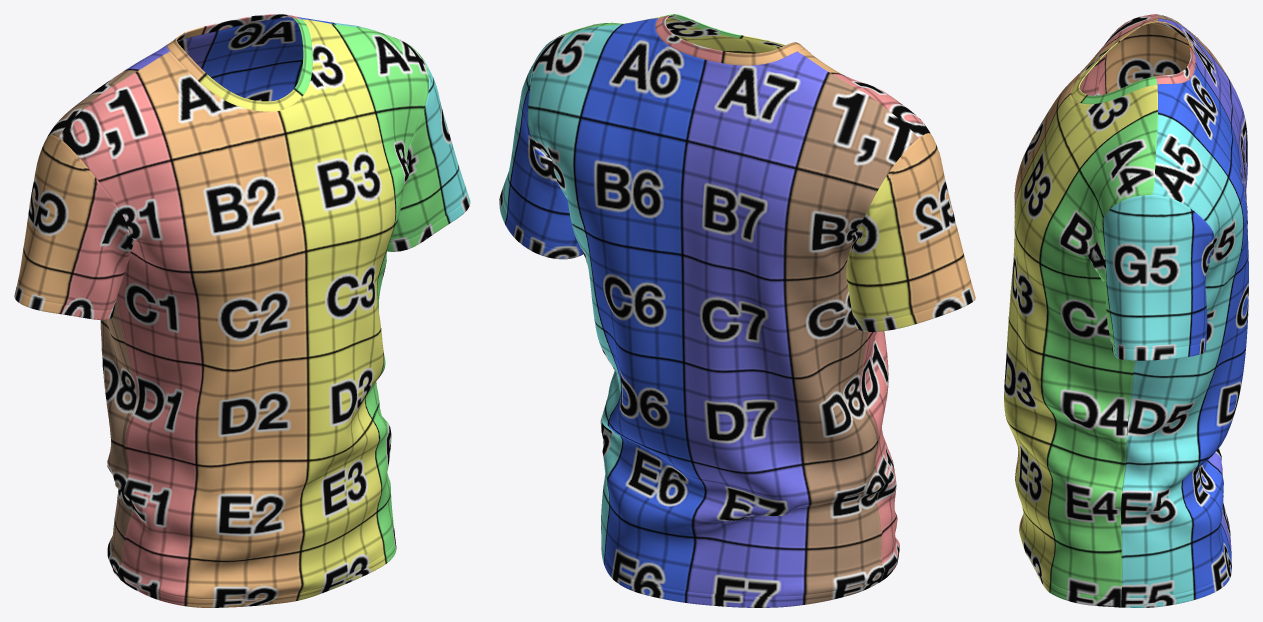
File: tshirt_test.glb
3 renders of one model, left to right at view 1: azimuth 30°, elevation 25°; view 2: azimuth 150°, elevation 25°; view 3: azimuth 270°, elevation 25°, orthographic. The views are drawn at different scales.
Parts seen in each view (by area): view 1: T_Shirt; view 2: T_Shirt; view 3: T_Shirt.
Boxes of the visible parts, x1,y1,x2,y2 form: T_Shirt: (14,14,470,607); T_Shirt: (499,14,975,607); T_Shirt: (1004,14,1248,607).
Bounding box in the file's own units: 55.05 × 61.31 × 26.91.
Materials: 1 (1 with a texture image).
